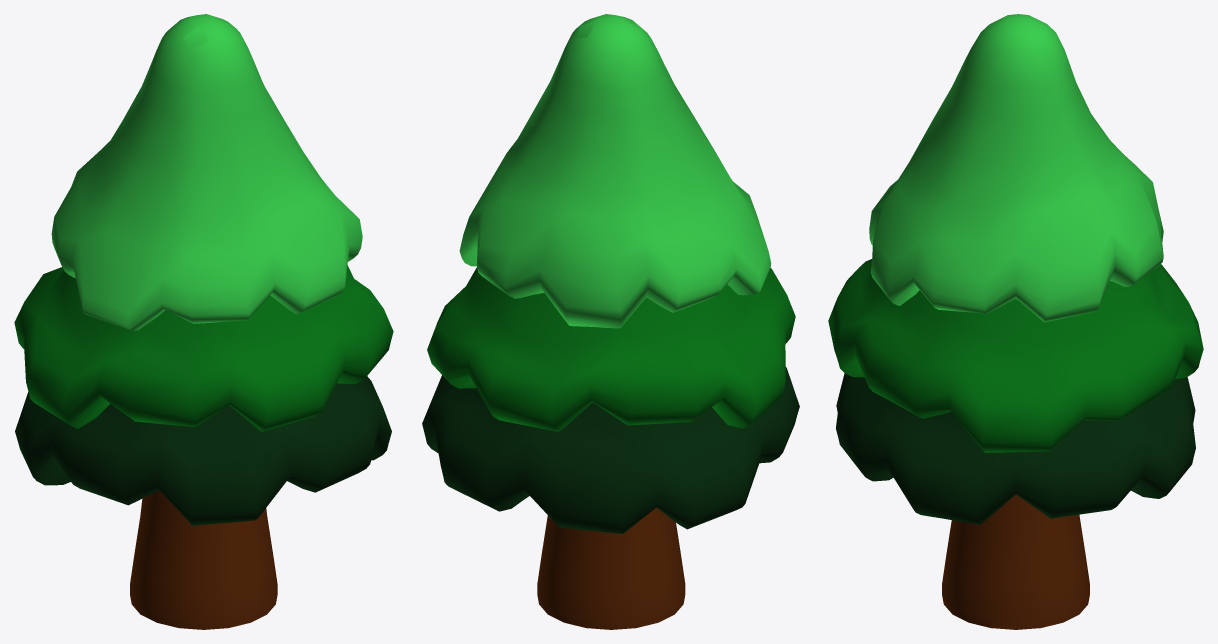
The model's file is Sapin_01.fbx.
The picture shows the model from 3 angles, left to right: view 1: azimuth 30°, elevation 25°; view 2: azimuth 150°, elevation 25°; view 3: azimuth 270°, elevation 25°; orthographic projection.
Parts seen in each view (by area): view 1: Feuilles_Haut_low003, Feuilles_Milieu_low002, Feuilles_Bas_low002, Tronc_low008; view 2: Feuilles_Haut_low003, Feuilles_Milieu_low002, Feuilles_Bas_low002, Tronc_low008; view 3: Feuilles_Haut_low003, Feuilles_Milieu_low002, Feuilles_Bas_low002, Tronc_low008.
Part boxes in pixels (box(x1,y1,x2,y2)): Feuilles_Haut_low003: box(51, 14, 362, 330); Feuilles_Milieu_low002: box(14, 265, 393, 431); Feuilles_Bas_low002: box(15, 376, 391, 525); Tronc_low008: box(130, 490, 277, 629); Feuilles_Haut_low003: box(459, 14, 771, 328); Feuilles_Milieu_low002: box(427, 267, 795, 431); Feuilles_Bas_low002: box(422, 367, 799, 533); Tronc_low008: box(537, 507, 685, 629); Feuilles_Haut_low003: box(869, 14, 1163, 322); Feuilles_Milieu_low002: box(828, 259, 1203, 452); Feuilles_Bas_low002: box(836, 373, 1195, 524); Tronc_low008: box(942, 494, 1089, 629).
Size of the model in its own units: 68.62 by 118 by 68.97.
